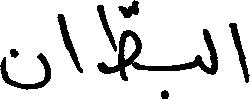X: (98, 0, 141, 85), (0, 44, 50, 94), (57, 9, 81, 77), (231, 18, 249, 87), (205, 24, 217, 79), (196, 50, 201, 74)
